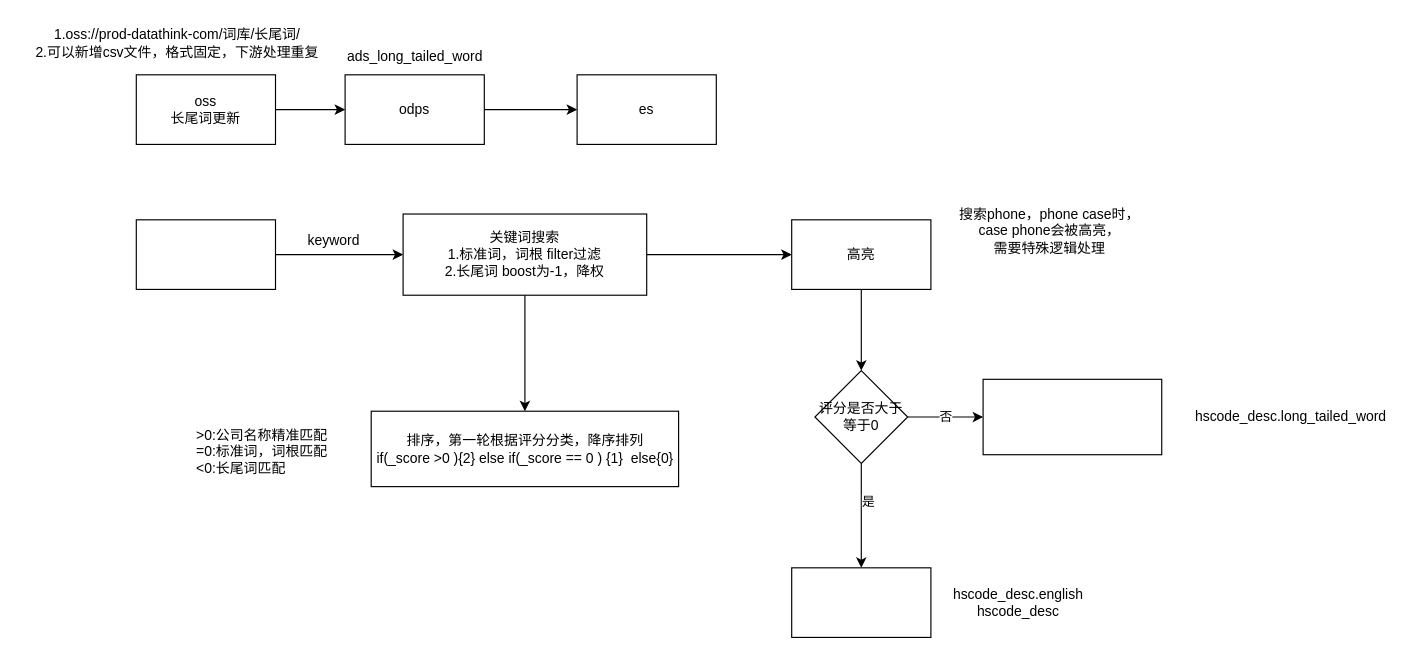
Image size: 1420x658. Some labels were removed from this diagram. The centre of each missing label's shape, as x and y in pixels:
"代码端" belongs at point (205, 254).
"优先使用词根高亮 其次原始词高亮" belongs at point (861, 602).
"长尾词高亮召回，不高亮" belongs at point (1072, 416).
